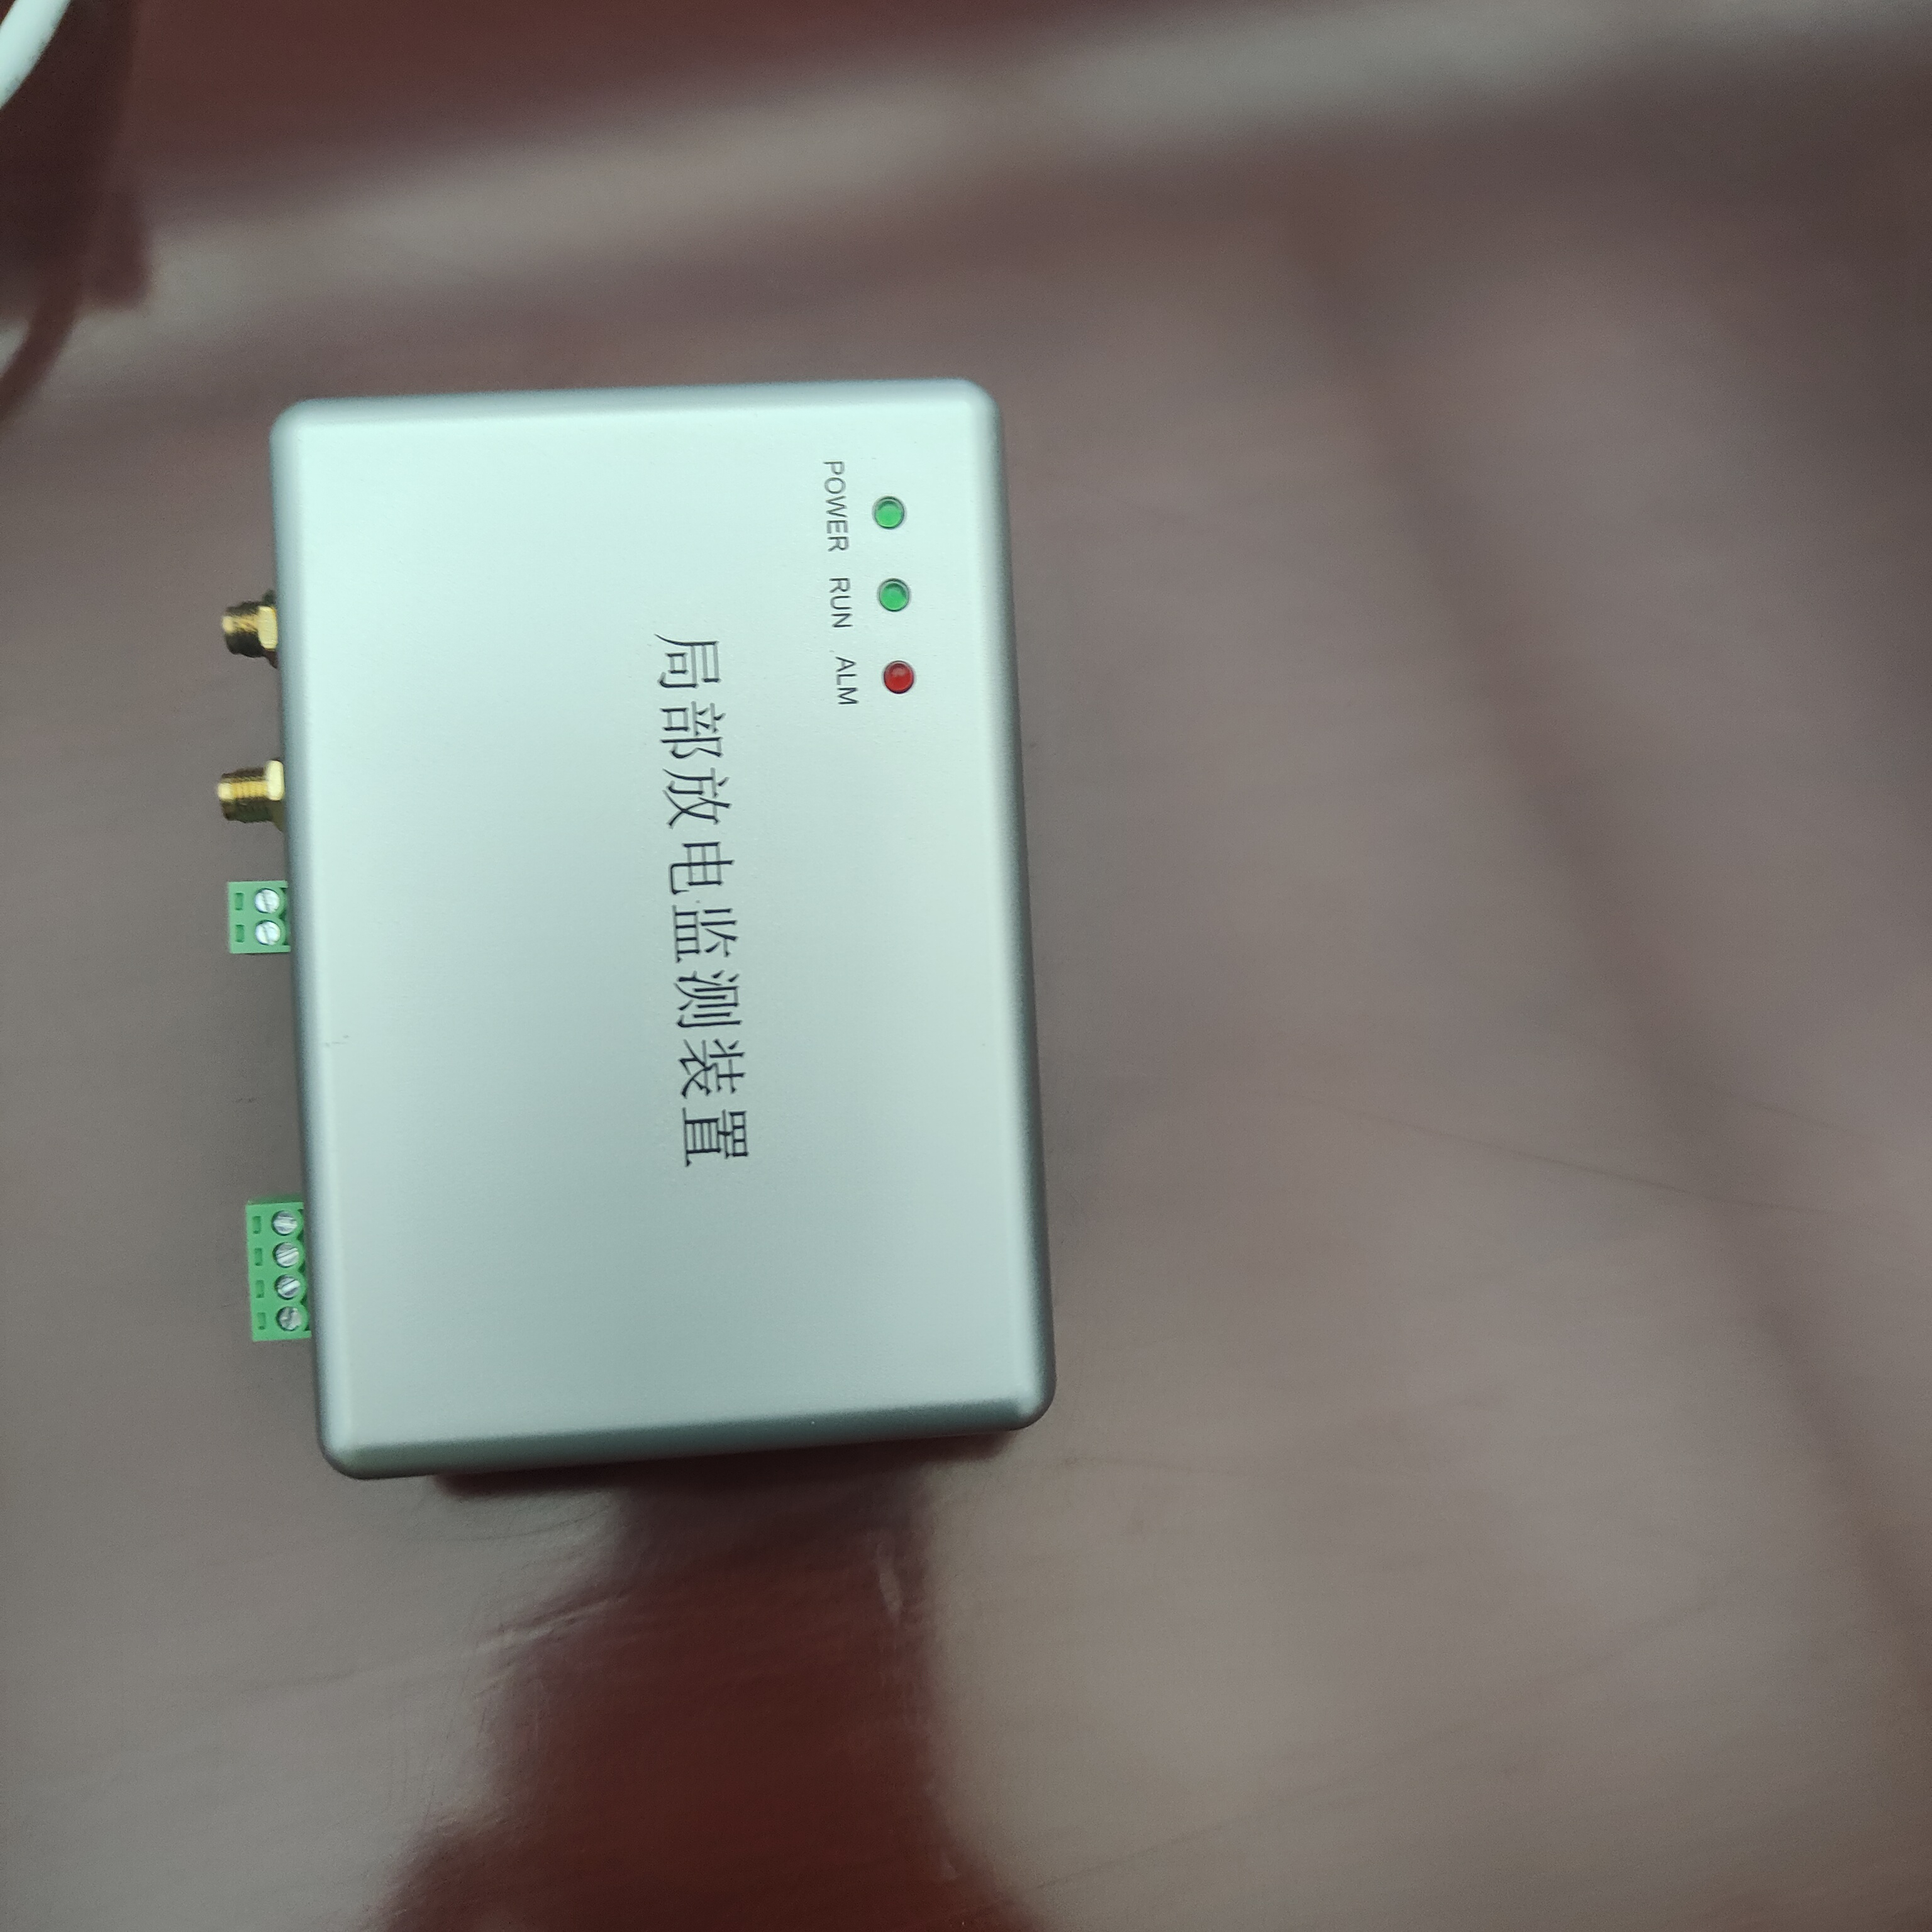jbfdjc: (184, 347, 1143, 1562)
